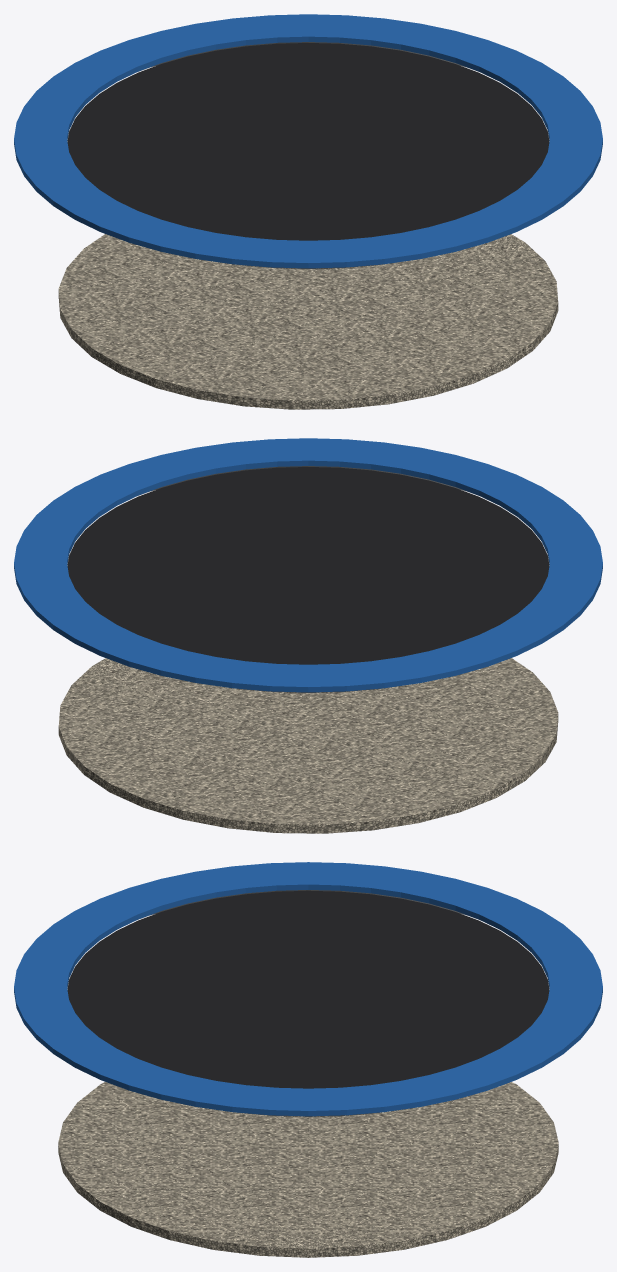
The picture shows the model from 3 angles, top to bottom: view 1: azimuth 30°, elevation 25°; view 2: azimuth 150°, elevation 25°; view 3: azimuth 270°, elevation 25°; orthographic projection.
Visible parts, largest first — view 1: baseOffset=-0.05;diameter=3;height=0.05;material=plastic_dar (×4); view 2: baseOffset=-0.05;diameter=3;height=0.05;material=plastic_dar (×4); view 3: baseOffset=-0.05;diameter=3;height=0.05;material=plastic_dar (×4).
Boxes of the visible parts, x1,y1,x2,y2 form: baseOffset=-0.05;diameter=3;height=0.05;material=plastic_dar (×4): [14, 14, 602, 409]; baseOffset=-0.05;diameter=3;height=0.05;material=plastic_dar (×4): [14, 438, 602, 833]; baseOffset=-0.05;diameter=3;height=0.05;material=plastic_dar (×4): [14, 862, 602, 1257].
Size of the model in its own units: 3 by 3 by 0.93.
4 materials, 1 textured.
